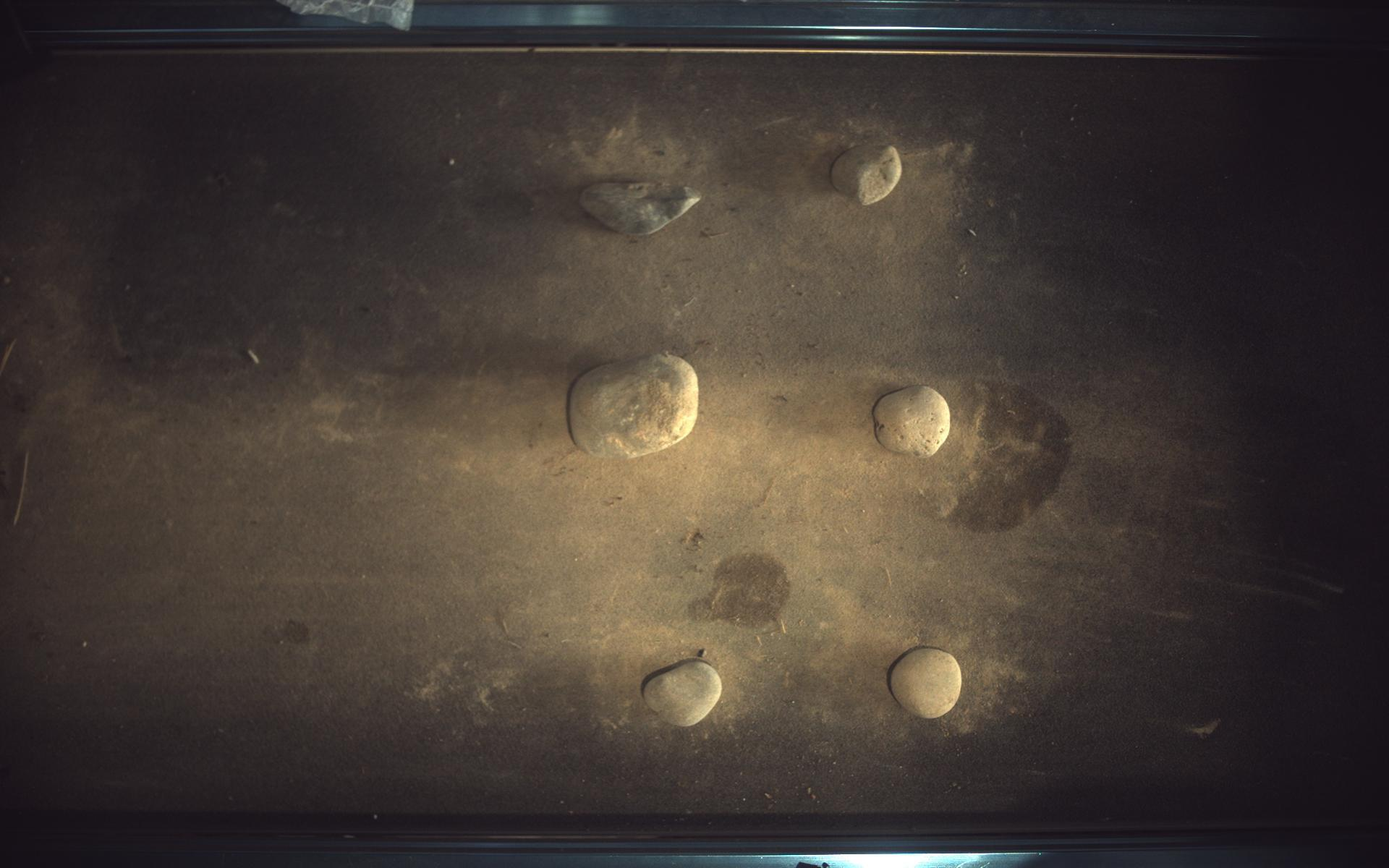stone: (569, 353, 699, 459), (580, 182, 701, 235), (875, 386, 952, 457), (644, 660, 723, 728), (892, 648, 964, 720), (833, 142, 903, 205)
